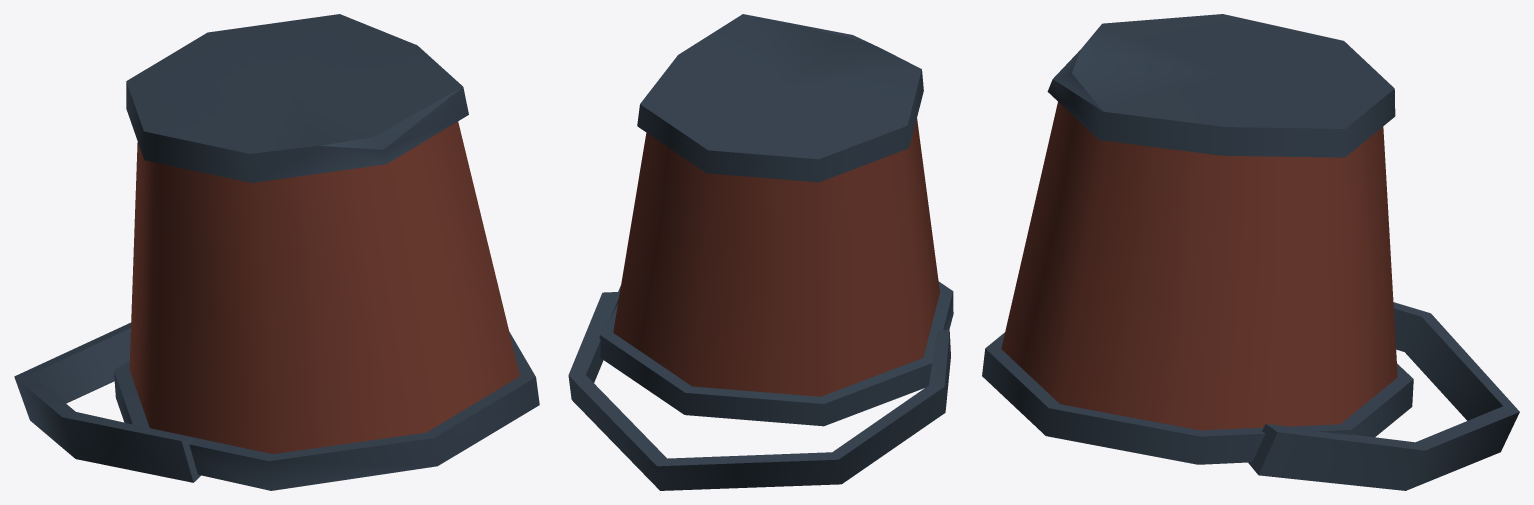
File: Bucket.fbx
3 views of the same model, side by side, from view 1: azimuth 30°, elevation 25°; view 2: azimuth 150°, elevation 25°; view 3: azimuth 270°, elevation 25° (orthographic). The views are drawn at different scales.
Parts seen in each view (by area): view 1: Hat_Bucket; view 2: Hat_Bucket; view 3: Hat_Bucket.
Part boxes in pixels (left/top/right/bottom): Hat_Bucket: left=14, top=14, right=539, bottom=490; Hat_Bucket: left=568, top=14, right=953, bottom=490; Hat_Bucket: left=982, top=14, right=1519, bottom=490.
Bounding box in the file's own units: 1.55 × 1.43 × 1.79.
